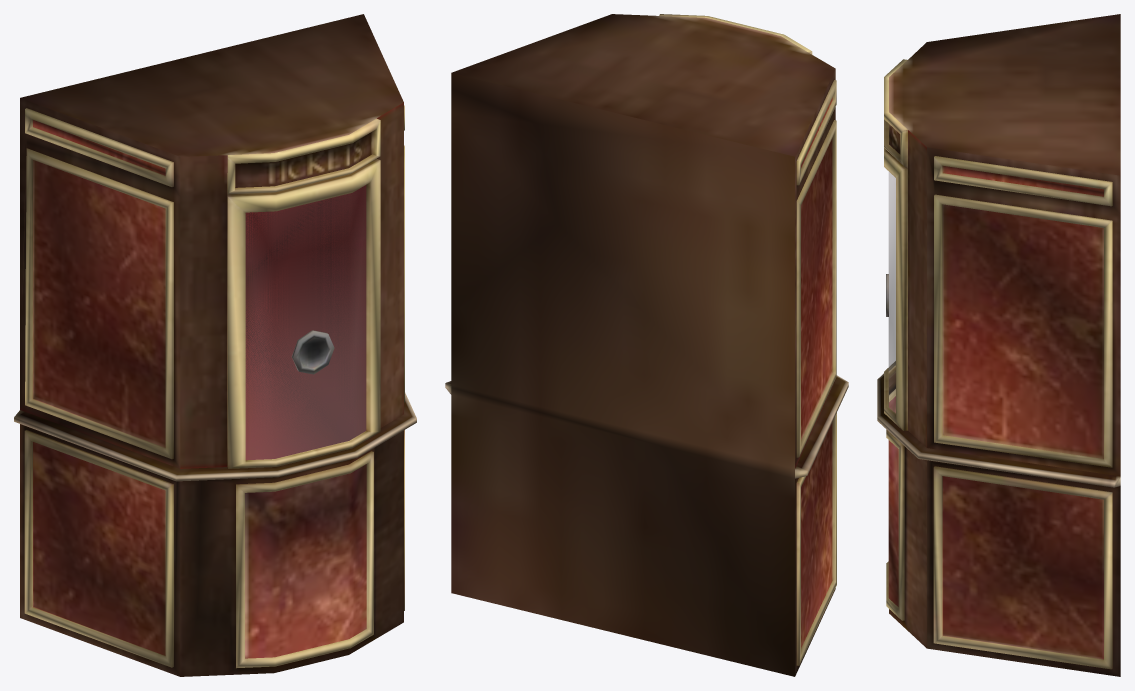
The model's file is ticket-office.lod1.glb.
The picture shows the model from 3 angles, left to right: view 1: azimuth 30°, elevation 25°; view 2: azimuth 150°, elevation 25°; view 3: azimuth 270°, elevation 25°; orthographic projection. The views are drawn at different scales.
Parts seen in each view (by area): view 1: defaultMaterial; view 2: defaultMaterial; view 3: defaultMaterial.
Boxes of the visible parts, bbox=[...] form: defaultMaterial: bbox=[14, 14, 416, 676]; defaultMaterial: bbox=[445, 14, 848, 676]; defaultMaterial: bbox=[877, 14, 1120, 676].
Size of the model in its own units: 2.19 by 3 by 1.32.
1 material, 1 textured.
